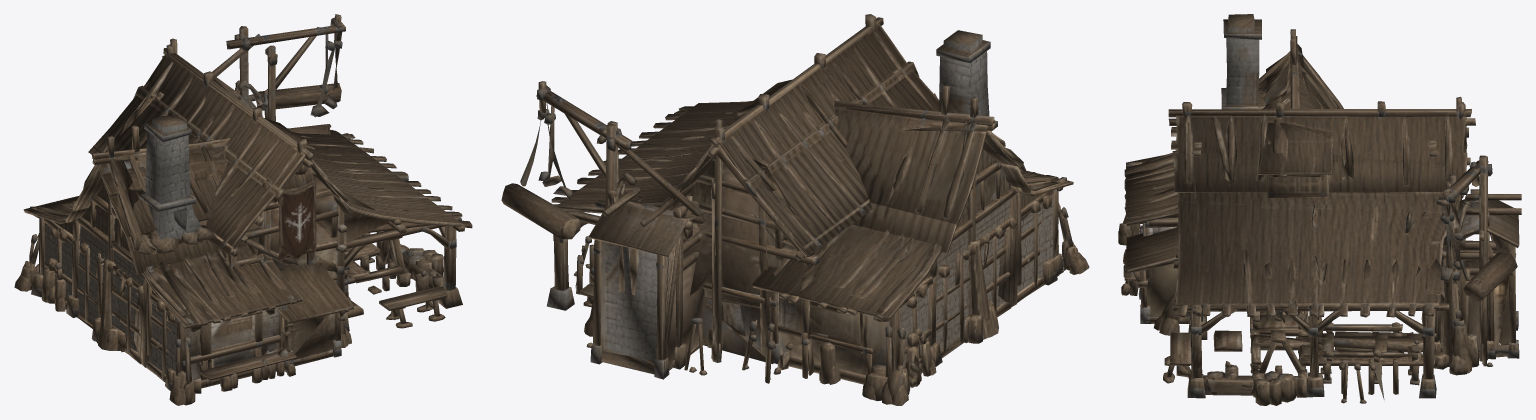
Rendered from Lumbercamp.glb.
3 views of the same model, side by side, from view 1: azimuth 30°, elevation 25°; view 2: azimuth 150°, elevation 25°; view 3: azimuth 270°, elevation 25° (orthographic). The views are drawn at different scales.
Size of the model in its own units: 1 by 0.6699 by 1.
1 material, 1 textured.
